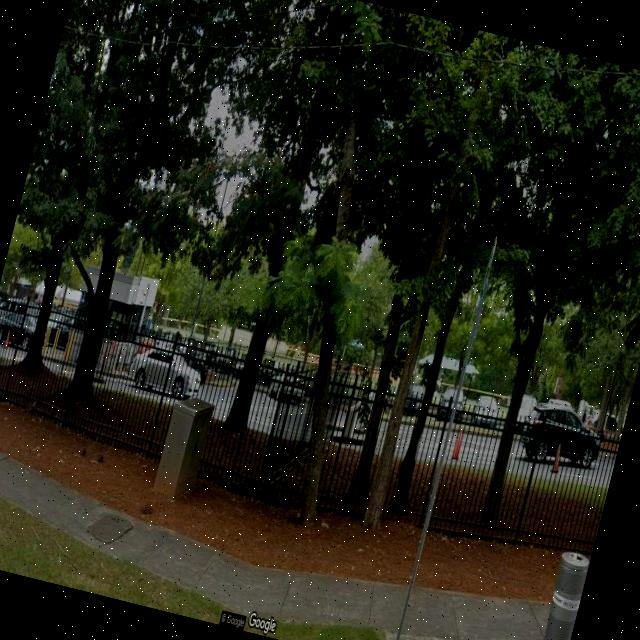trash_can: (532, 548, 591, 640)
